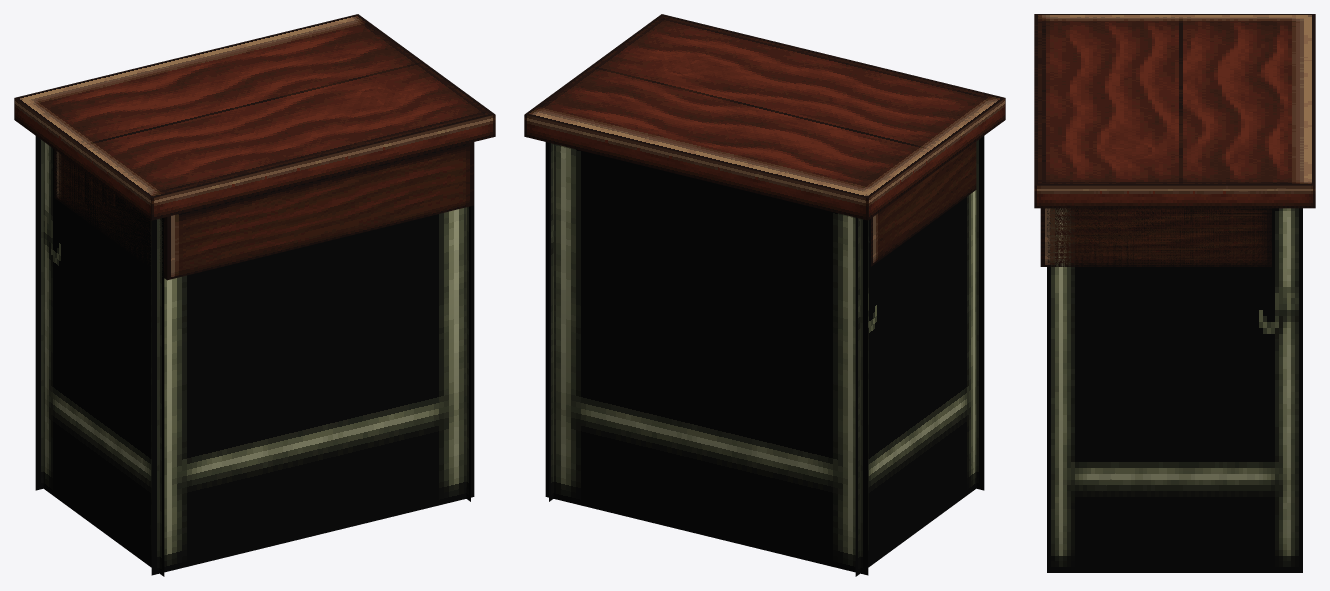
The model's file is prop_desk-0.glb.
3 views of the same model, side by side, from view 1: azimuth 30°, elevation 25°; view 2: azimuth 150°, elevation 25°; view 3: azimuth 270°, elevation 25° (orthographic). The views are drawn at different scales.
Visible parts, largest first — view 1: prop_desk-0; view 2: prop_desk-0; view 3: prop_desk-0.
Boxes of the visible parts, <box> form: prop_desk-0: <box>14,14,495,576</box>; prop_desk-0: <box>524,14,1005,576</box>; prop_desk-0: <box>1034,14,1315,572</box>.
Size of the model in its own units: 0.65 by 0.7 by 0.45.
Materials: 2 (2 with a texture image).
